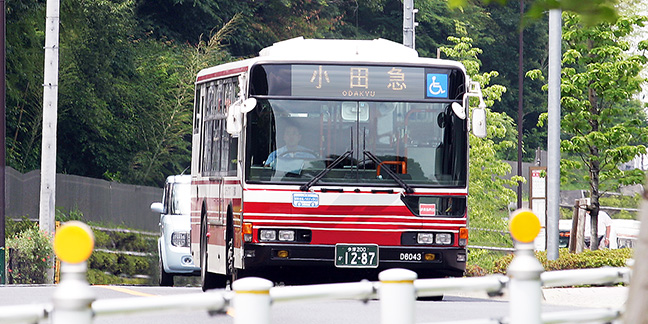destination: (291, 64, 424, 98)
